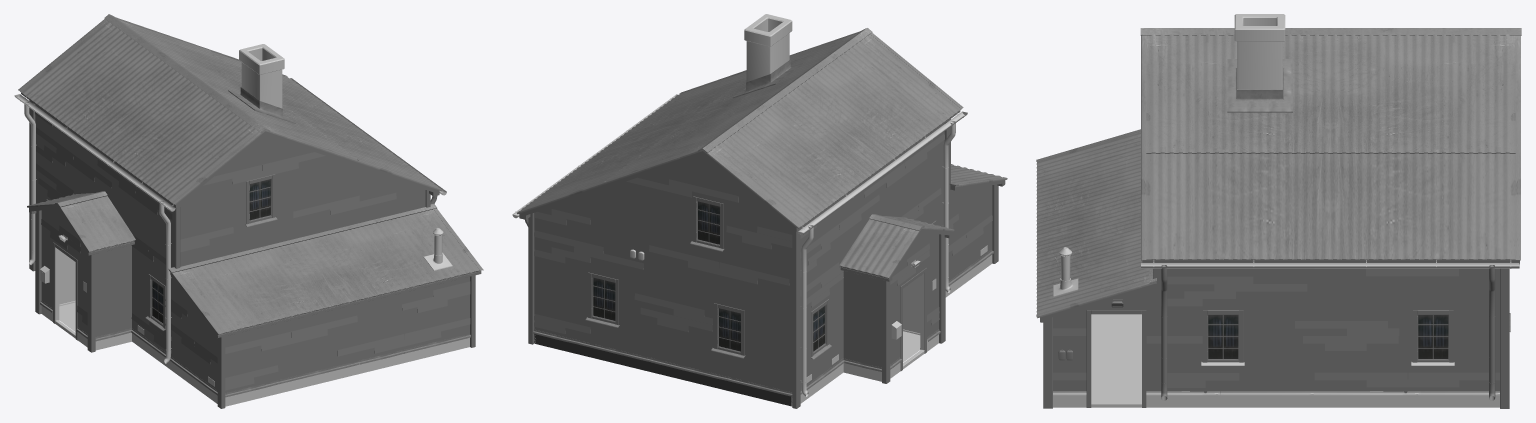
Rendered from Hut1.fbx.
3 views of the same model, side by side, from view 1: azimuth 30°, elevation 25°; view 2: azimuth 150°, elevation 25°; view 3: azimuth 270°, elevation 25° (orthographic). The views are drawn at different scales.
Parts seen in each view (by area): view 1: SM_Hut1_HutRoof_01_LOD0, SM_Hut1_HutWall_01_LOD0, SM_Hut1_HutRoof_02_LOD0, SM_Hut1_HutWall_04_LOD0, SM_Hut1_HutWall_05_LOD0, SM_Hut1_HutWall_02_LOD0; view 2: SM_Hut1_HutWall_03_LOD0, SM_Hut1_HutRoof_01_LOD0, SM_Hut1_HutWall_01_LOD0, SM_Hut1_HutWall_02_LOD0, SM_Hut1_HutRoof_02_LOD0, SM_Hut1_HutInside_01_LOD0; view 3: SM_Hut1_HutRoof_01_LOD0, SM_Hut1_HutWall_02_LOD0, SM_Hut1_HutRoof_02_LOD0, SM_Hut1_HutInside_01_LOD0.
Boxes of the visible parts, box(x1,y1,x2,y2) form: SM_Hut1_HutRoof_01_LOD0: box(14, 14, 446, 211); SM_Hut1_HutWall_01_LOD0: box(24, 100, 226, 408); SM_Hut1_HutRoof_02_LOD0: box(168, 204, 483, 337); SM_Hut1_HutWall_04_LOD0: box(180, 135, 424, 266); SM_Hut1_HutWall_05_LOD0: box(225, 277, 470, 406); SM_Hut1_HutWall_02_LOD0: box(424, 189, 475, 347); SM_Hut1_HutWall_03_LOD0: box(533, 155, 792, 406); SM_Hut1_HutRoof_01_LOD0: box(512, 14, 967, 235); SM_Hut1_HutWall_01_LOD0: box(791, 119, 998, 408); SM_Hut1_HutWall_02_LOD0: box(525, 212, 536, 344); SM_Hut1_HutRoof_02_LOD0: box(949, 164, 1007, 190); SM_Hut1_HutInside_01_LOD0: box(903, 329, 920, 362); SM_Hut1_HutRoof_01_LOD0: box(1140, 14, 1521, 268); SM_Hut1_HutWall_02_LOD0: box(1043, 265, 1509, 408); SM_Hut1_HutRoof_02_LOD0: box(1036, 129, 1156, 322); SM_Hut1_HutInside_01_LOD0: box(1091, 314, 1141, 402).
Size of what is drawn, in the model's own units: 995 by 882 by 1103.
